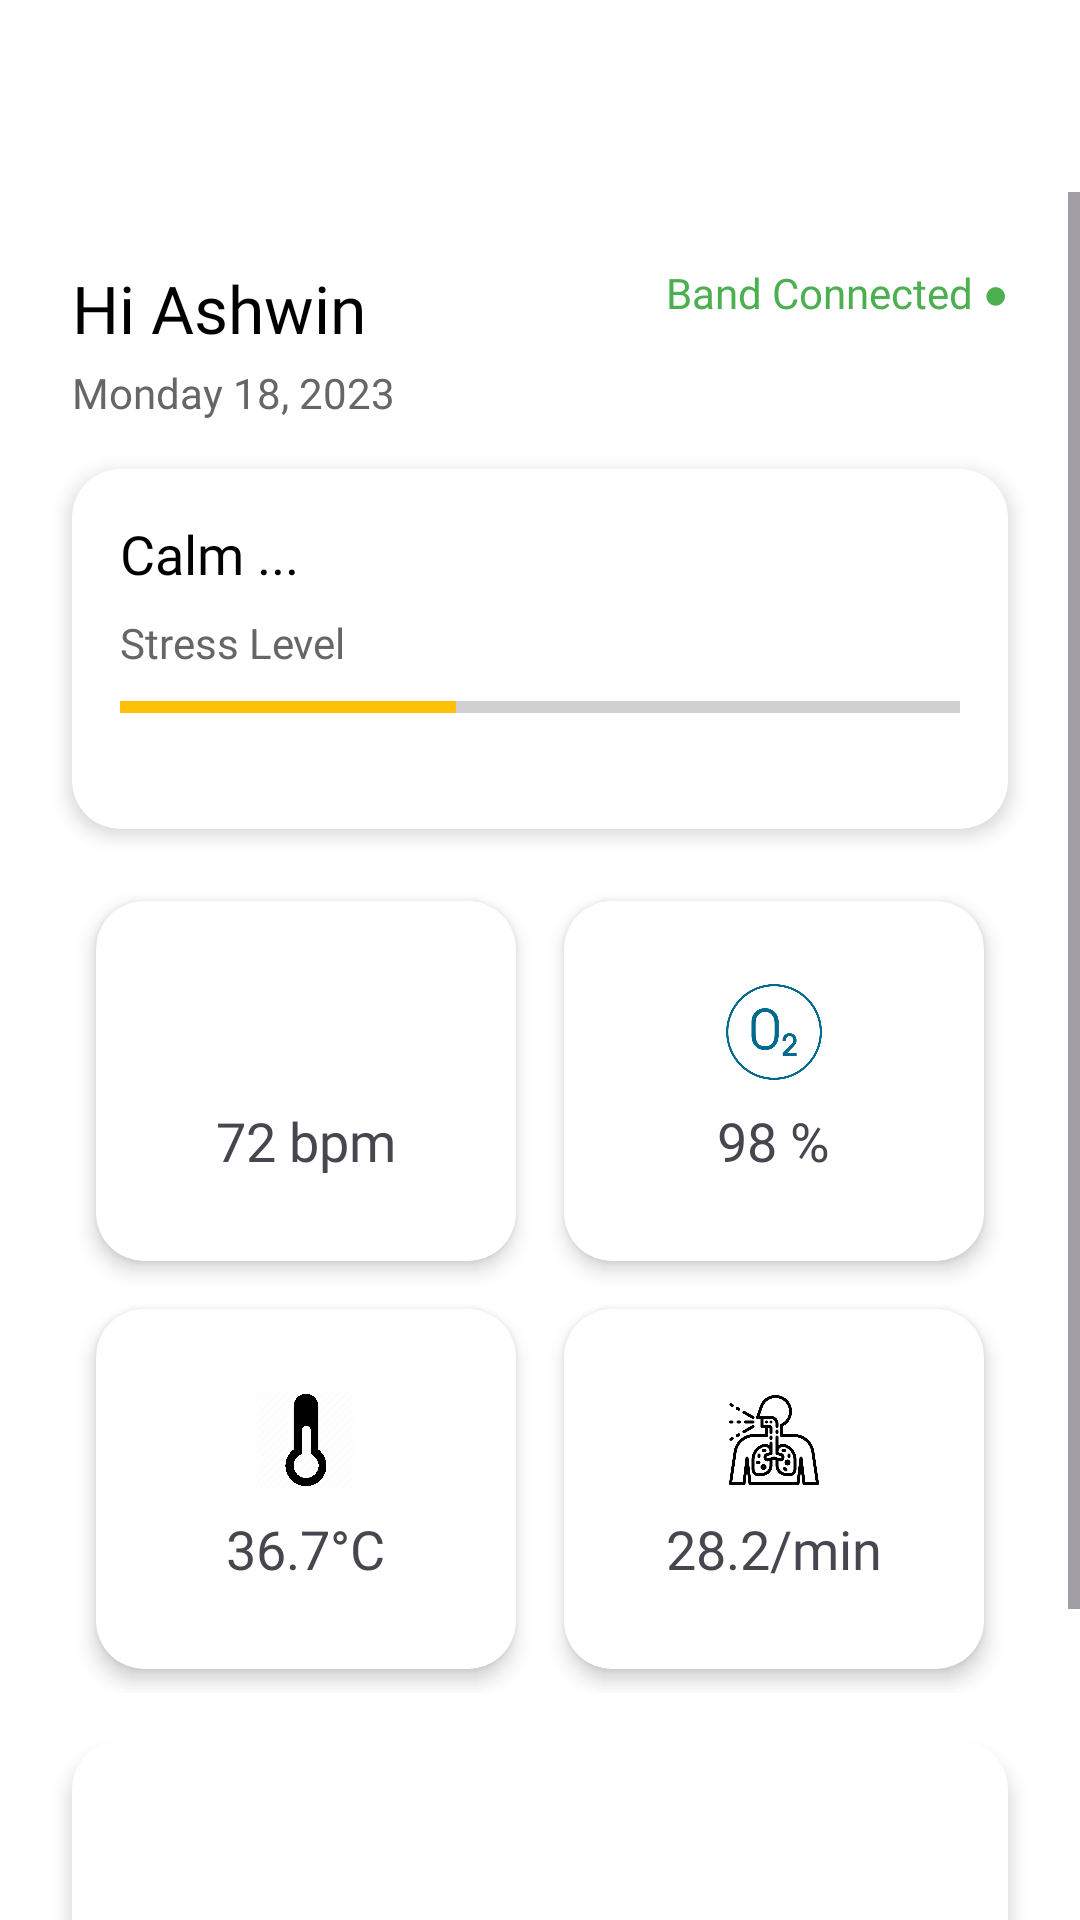

Screen size 1080 × 1920. Icon name, then its center in pixels as (x=x, y=y):
resp: (x=774, y=1440)
